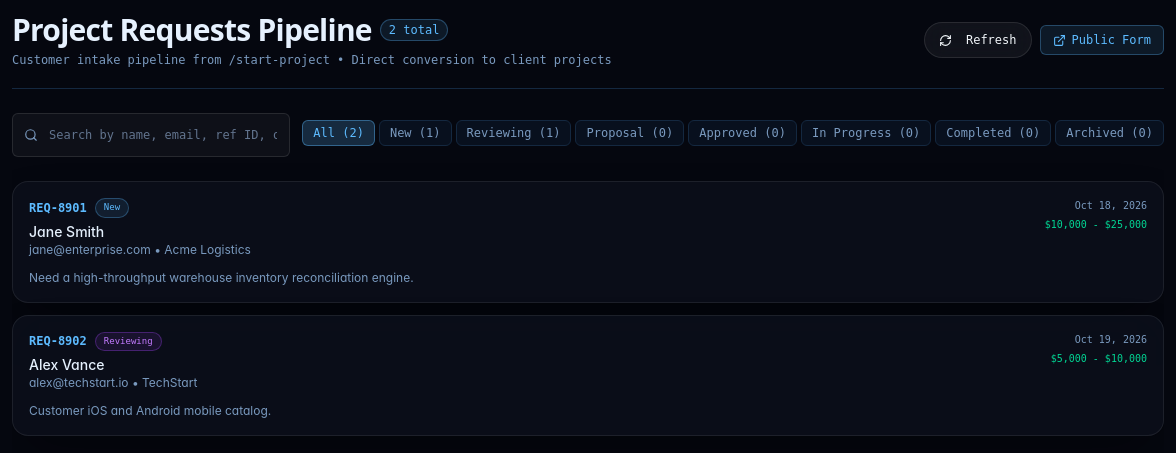
Test case: AdminRequestsPage Component › filters requests dynamically via search input
This screenshot has width=1176, height=453.
Step 1. Type "Alex" into the field with placeholder "Search by name, email, ref ID, or type..." → (151, 135), box [12,113,290,157]
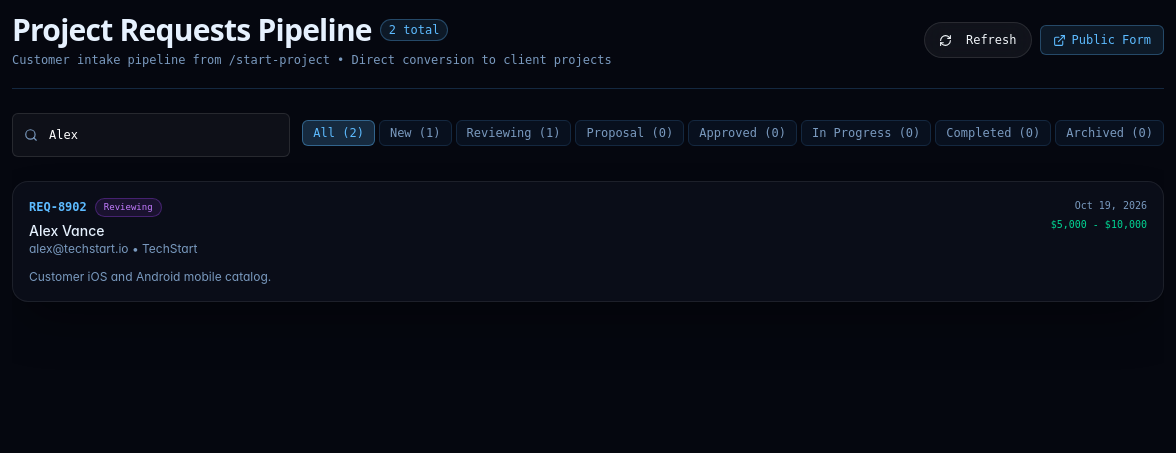
Expected: the heading "Jane Smith" is gone
